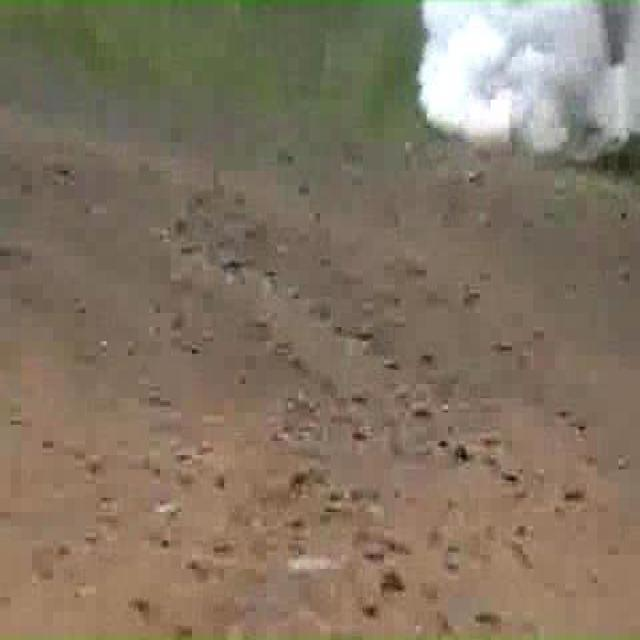Smoke: (416, 0, 640, 156)
